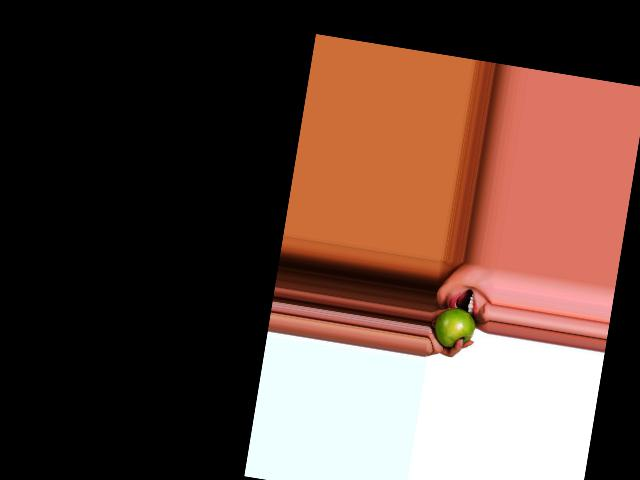apple: (432, 303, 478, 352)
